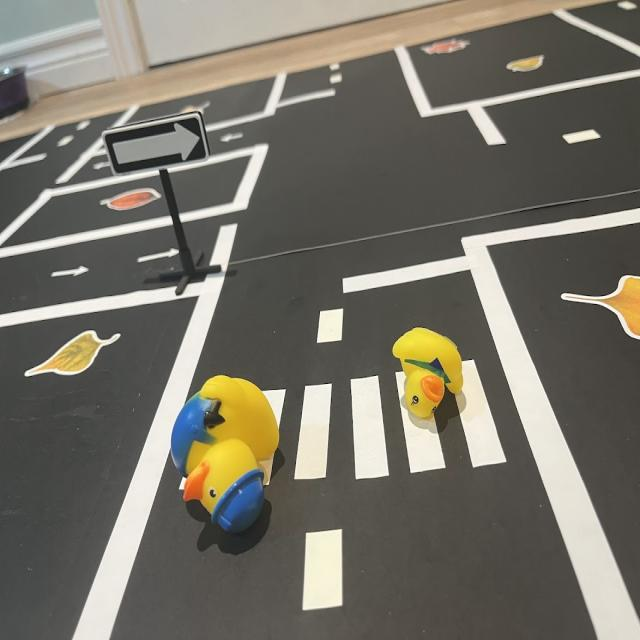duck_regular: (394, 326, 468, 421)
duck_specialty: (174, 372, 282, 531)
road_crosswalk: (262, 355, 511, 488)
road_oneway: (133, 250, 183, 268), (48, 263, 92, 283), (92, 156, 114, 172), (220, 133, 249, 145)
sign_oneway_right: (105, 108, 212, 176)
